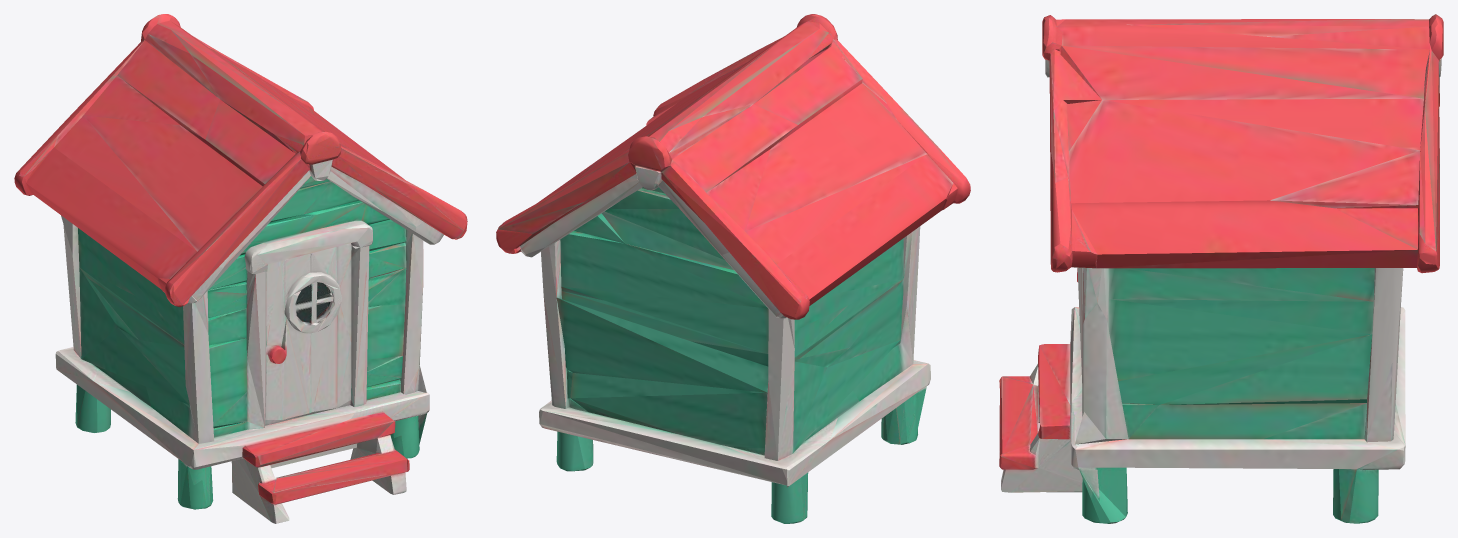
The model's file is beach-hut.glb.
3 renders of one model, left to right at view 1: azimuth 30°, elevation 25°; view 2: azimuth 150°, elevation 25°; view 3: azimuth 270°, elevation 25°, orthographic. The views are drawn at different scales.
Size of the model in its own units: 1.64 by 1.9 by 1.75.
Materials: 1 (1 with a texture image).
